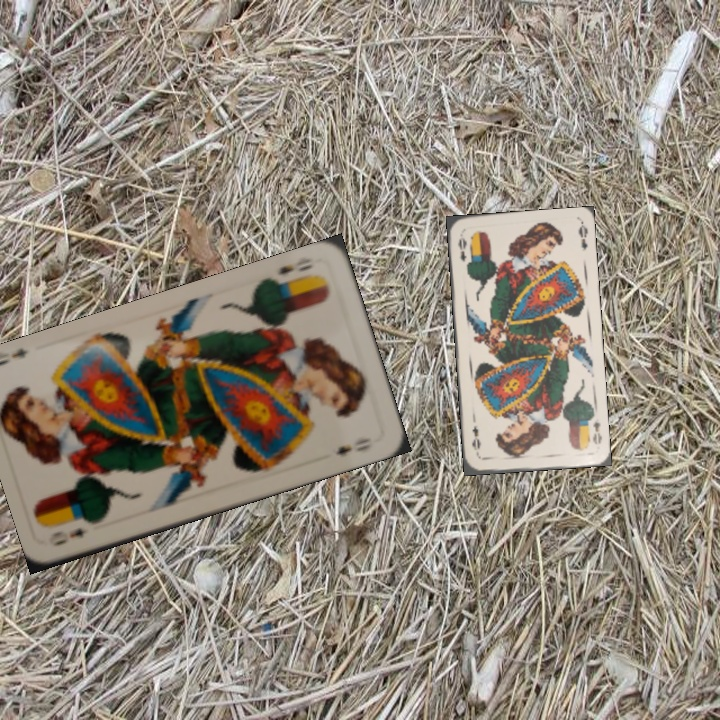EO: (266, 260, 323, 288), (45, 524, 91, 549), (589, 415, 605, 447), (454, 234, 469, 264)
